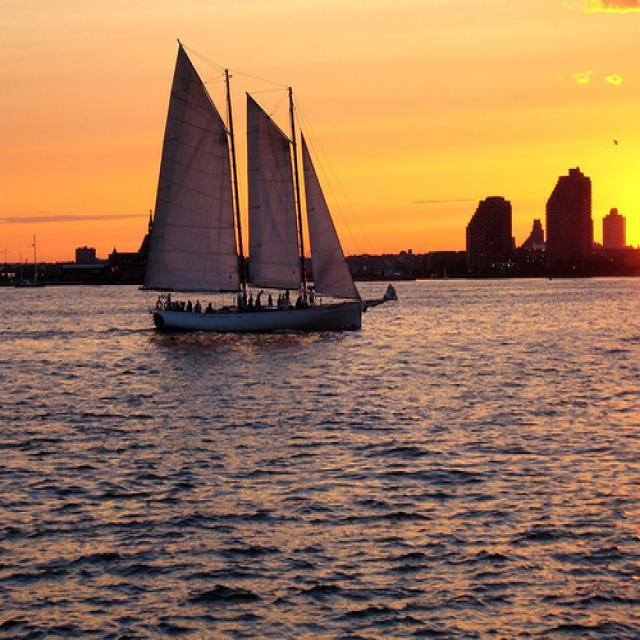Ship: (150, 45, 371, 343)
